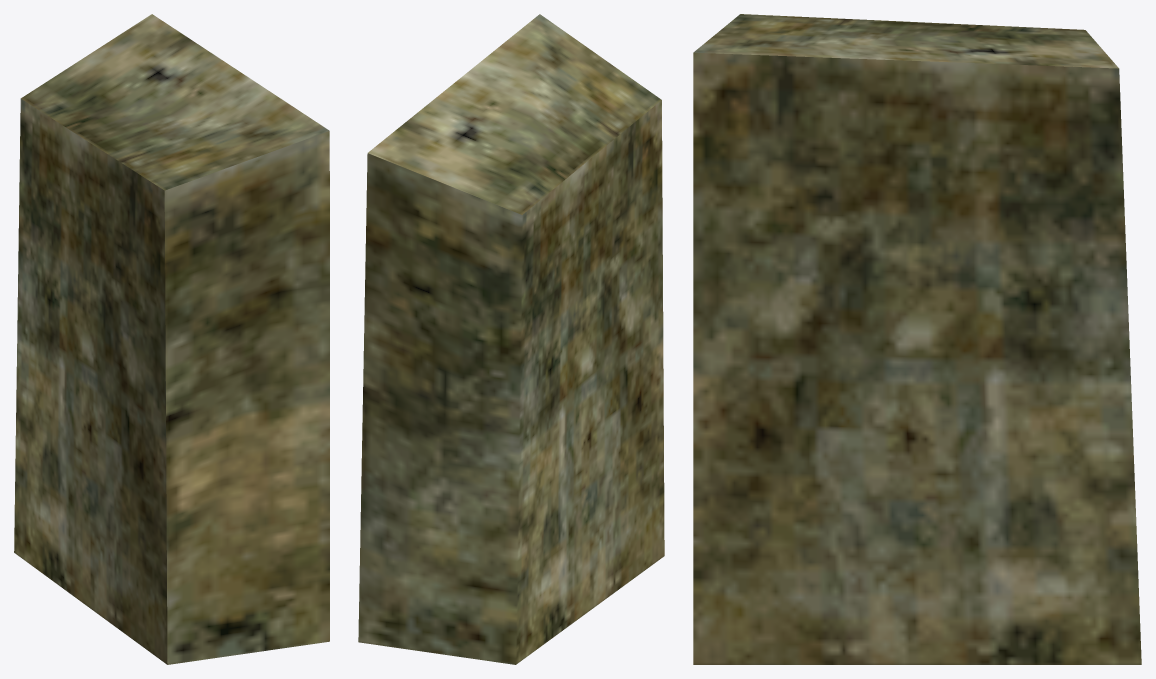
The model's file is hrz100.glb.
The picture shows the model from 3 angles, left to right: view 1: azimuth 30°, elevation 25°; view 2: azimuth 150°, elevation 25°; view 3: azimuth 270°, elevation 25°; orthographic projection. The views are drawn at different scales.
Visible parts, largest first — view 1: hrz100-col; view 2: hrz100-col; view 3: hrz100-col.
Boxes of the visible parts, bbox=[...] form: hrz100-col: bbox=[14, 14, 329, 664]; hrz100-col: bbox=[358, 14, 664, 664]; hrz100-col: bbox=[693, 14, 1141, 664].
Size of the model in its own units: 0.5739 by 1.93 by 1.28.
Materials: 1 (1 with a texture image).
